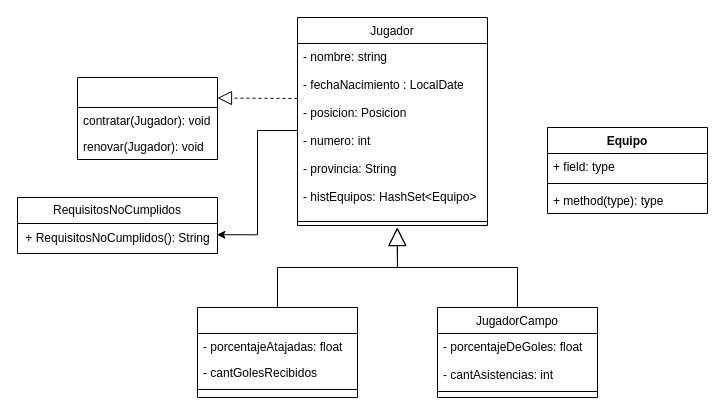
Image size: 725x415. Some labels were removed from this diagram. The shapes that lost their labels are listed below. From the top down, each one's box as (x1, y1, x2, y2) in pixels, then its label:
(76, 76, 218, 160): <<Interfaz>> Contrato
(196, 306, 358, 398): Arquero
